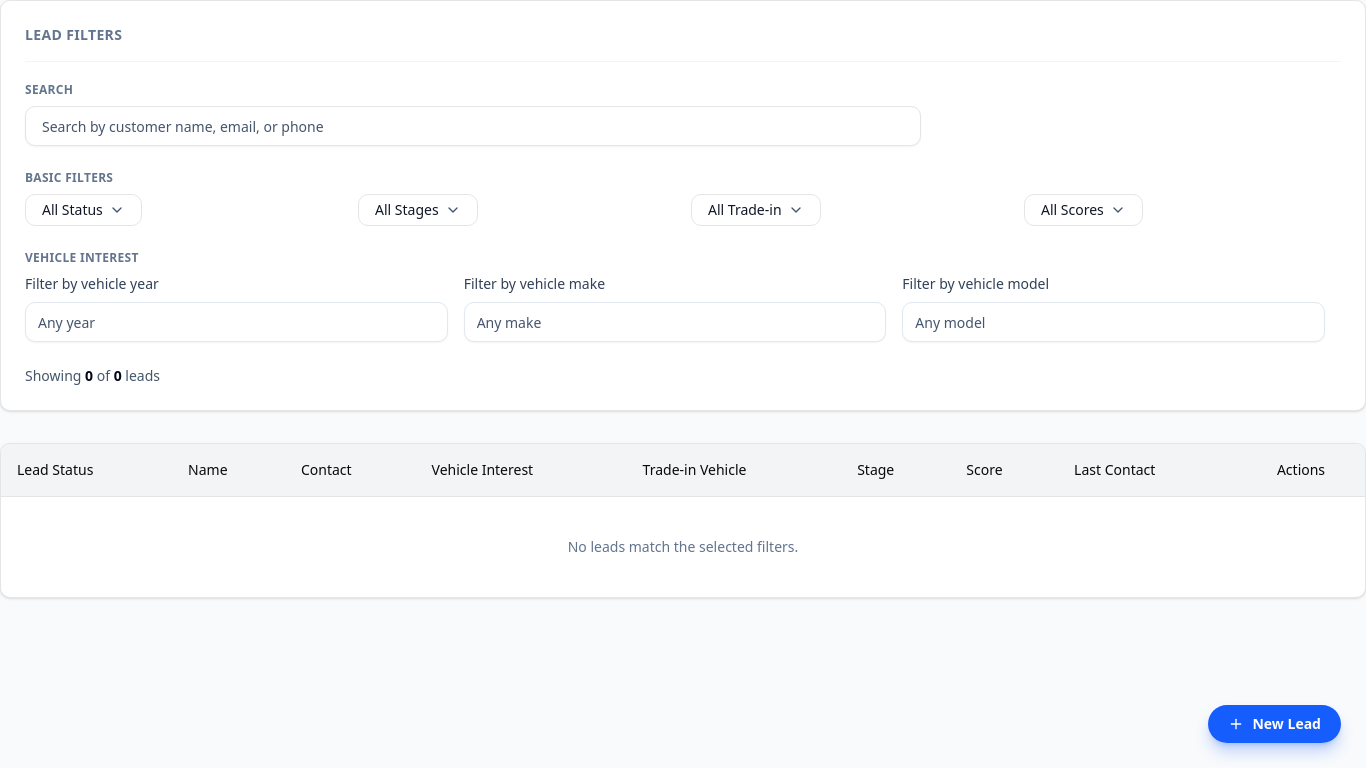
Test: UI-LEAD — filtering and CRUD component integration › UI-LEAD-06: failed create keeps the form and does not add a row
This screenshot has width=1366, height=768.
Click the button with aria-label "Create new lead". click: (1275, 724)
box: [1208,704,1342,744]
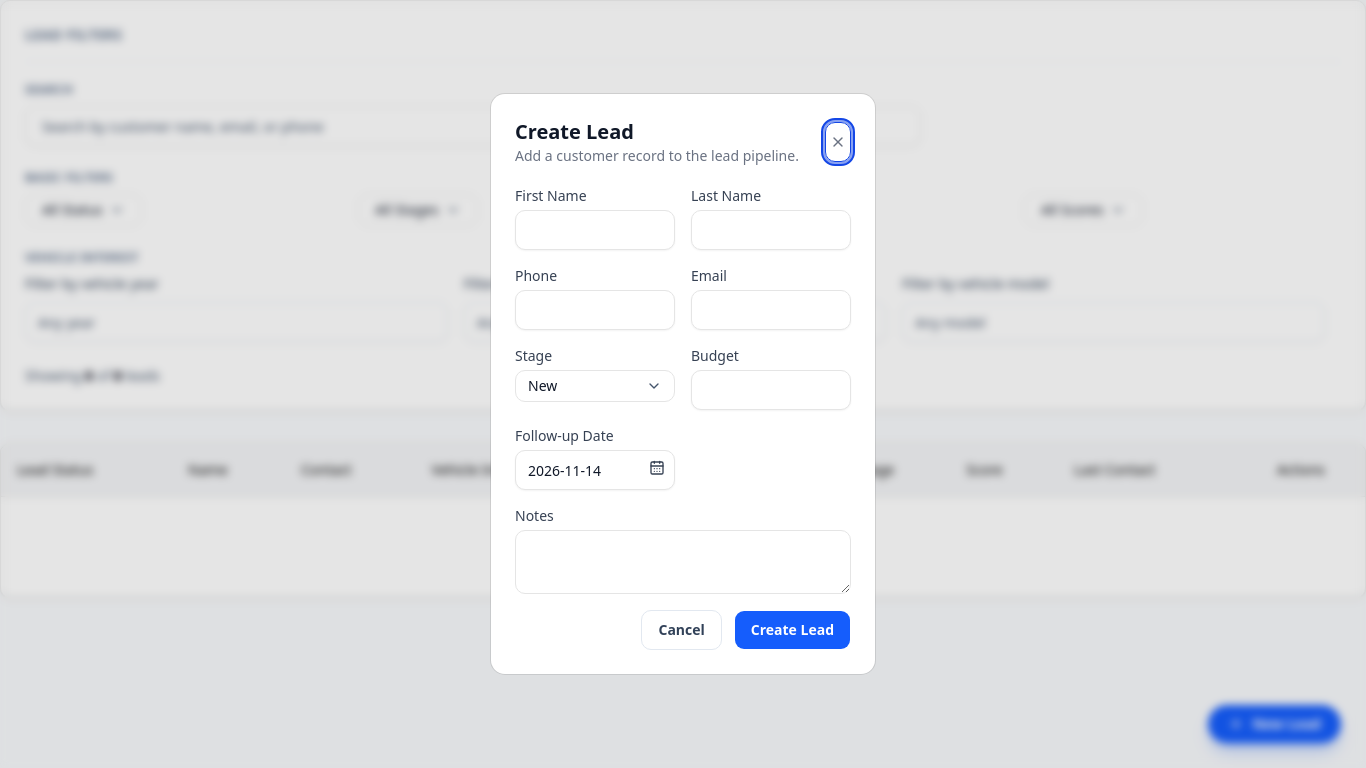
Type "Unsaved" into the field labelled "First Name". click: (595, 230)
box: [515,210,675,250]
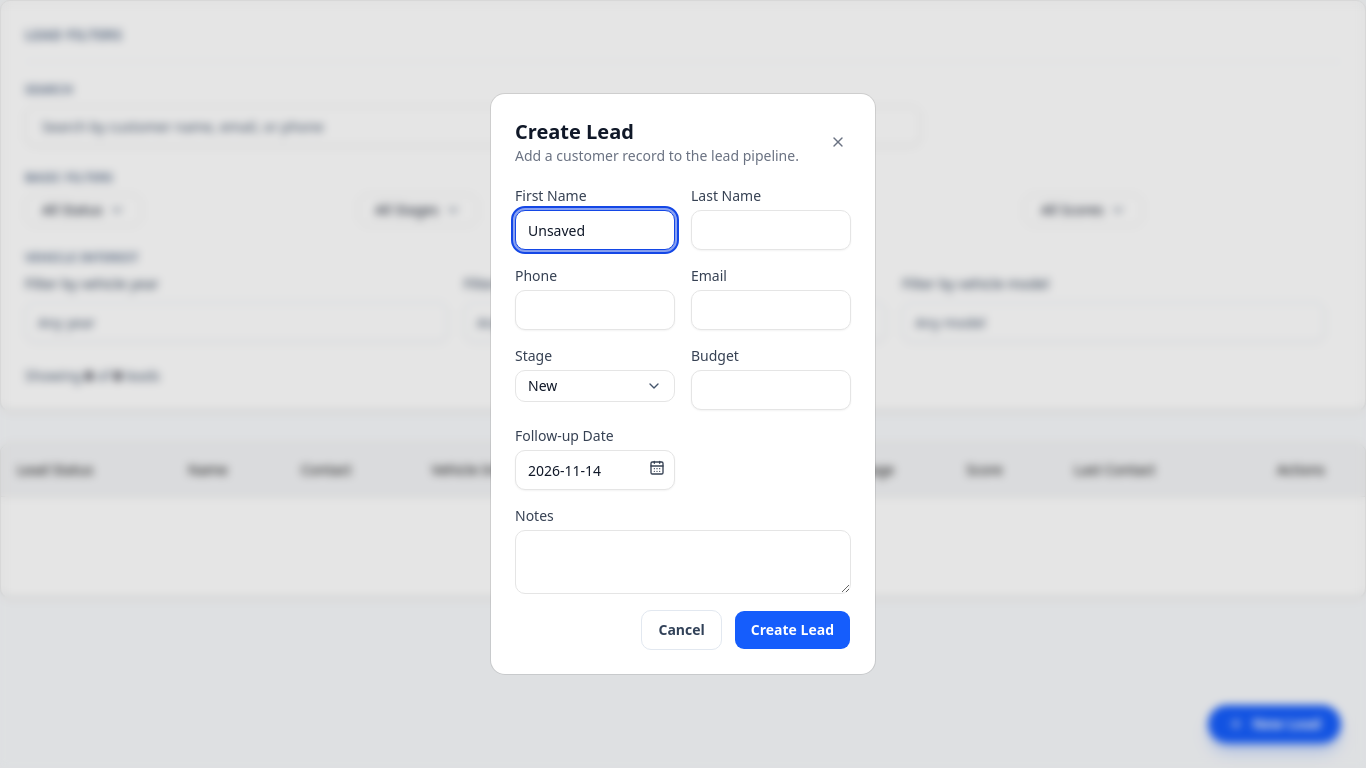
Click the button "Create Lead". click: (792, 630)
box: [734,610,851,650]
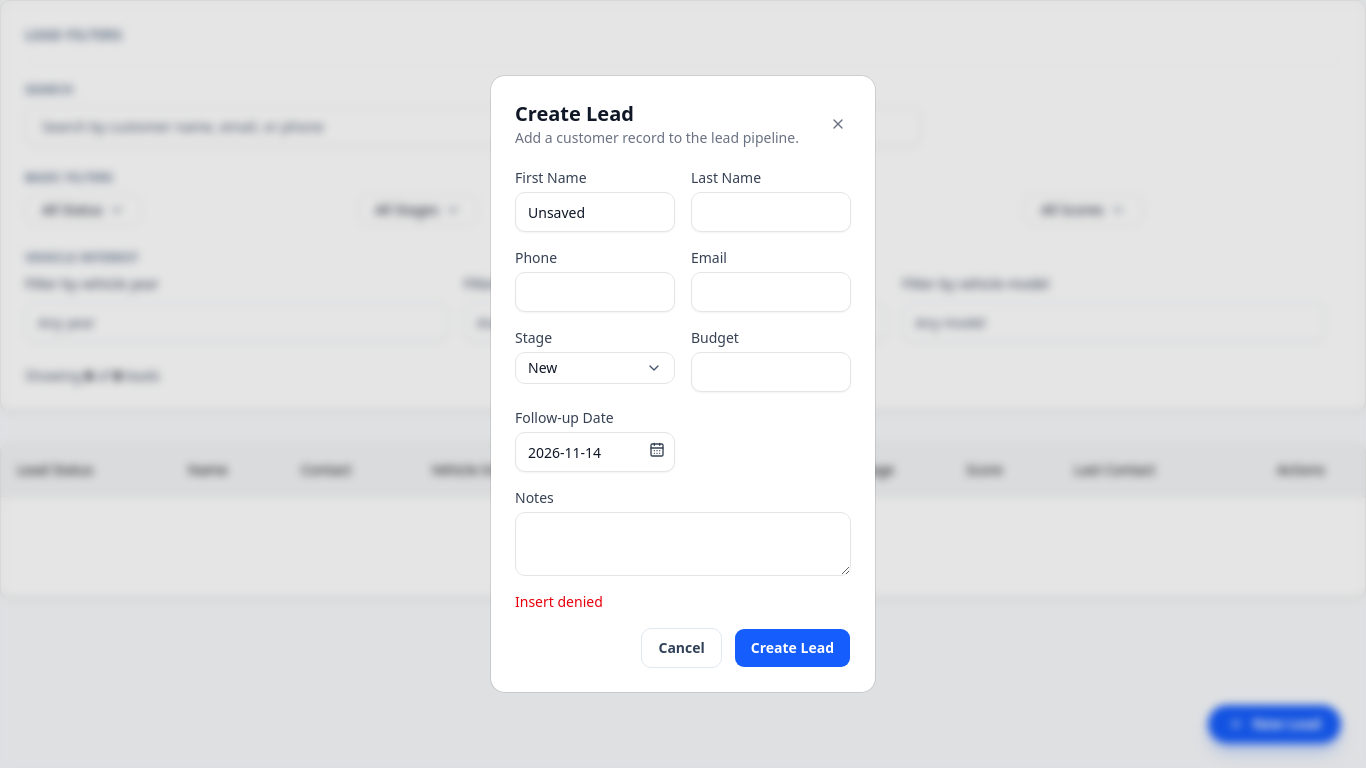
Result: the text "Insert denied" is shown at [515,592,603,611]
